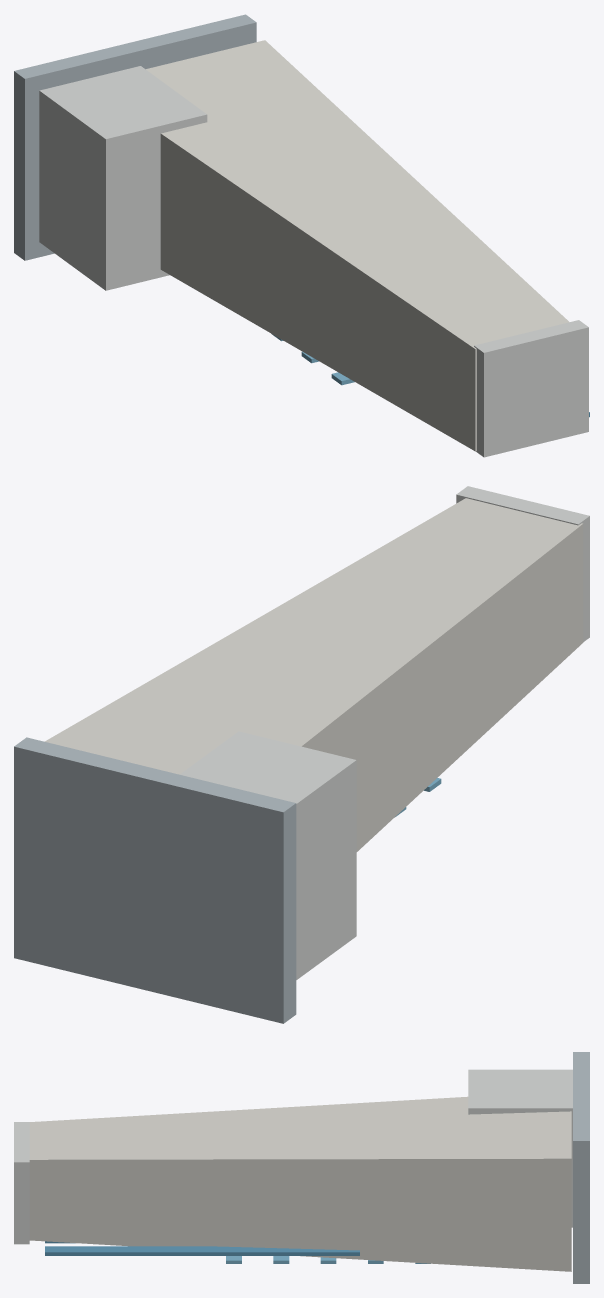
Rendered from 01_curved_skyscraper.glb.
3 views of the same model, one above another, from view 1: azimuth 30°, elevation 25°; view 2: azimuth 150°, elevation 25°; view 3: azimuth 270°, elevation 25° (orthographic). The views are drawn at different scales.
Parts seen in each view (by area): view 1: 01_curved_skyscraper_part_003, 01_curved_skyscraper_part_001, 01_curved_skyscraper_part_004, 01_curved_skyscraper_part_000; view 2: 01_curved_skyscraper_part_003, 01_curved_skyscraper_part_000, 01_curved_skyscraper_part_001, 01_curved_skyscraper_part_004; view 3: 01_curved_skyscraper_part_003, 01_curved_skyscraper_part_001, 01_curved_skyscraper_part_000, 01_curved_skyscraper_part_013, 01_curved_skyscraper_part_004.
Boxes of the visible parts, box(x1,y1,x2,y2) form: 01_curved_skyscraper_part_003: box(146, 40, 569, 451); 01_curved_skyscraper_part_001: box(39, 66, 207, 290); 01_curved_skyscraper_part_004: box(474, 320, 588, 457); 01_curved_skyscraper_part_000: box(14, 14, 256, 260); 01_curved_skyscraper_part_003: box(45, 498, 583, 851); 01_curved_skyscraper_part_000: box(14, 737, 296, 1023); 01_curved_skyscraper_part_001: box(180, 731, 356, 979); 01_curved_skyscraper_part_004: box(456, 486, 589, 641); 01_curved_skyscraper_part_003: box(29, 1096, 571, 1271); 01_curved_skyscraper_part_001: box(468, 1069, 572, 1227); 01_curved_skyscraper_part_000: box(573, 1052, 589, 1283); 01_curved_skyscraper_part_013: box(45, 1246, 359, 1255); 01_curved_skyscraper_part_004: box(14, 1122, 29, 1244).
Size of the model in its own units: 3.31 by 2.4 by 8.77.
